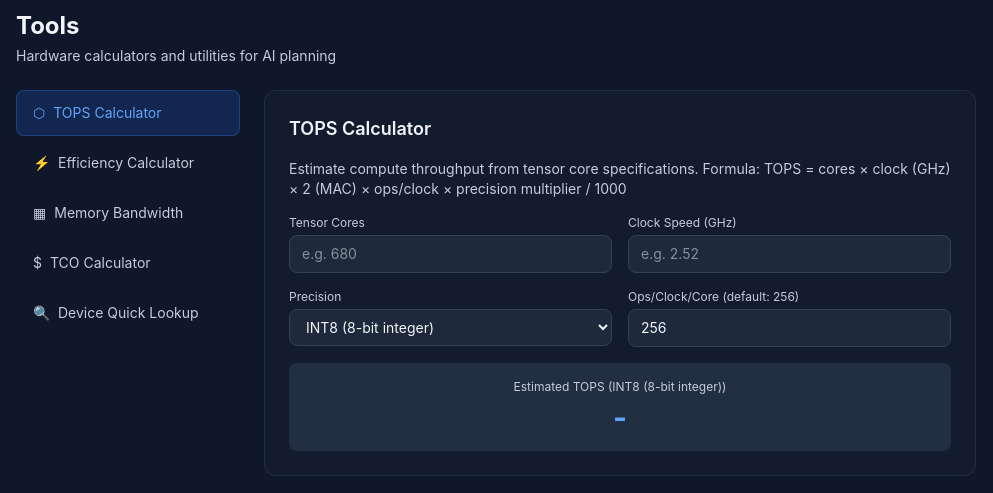
Test case: ToolsPage › switches to Memory Bandwidth on tab click
The image size is (993, 493).
Click the tab "▦Memory Bandwidth" at (128,213), box [16,190,240,236]
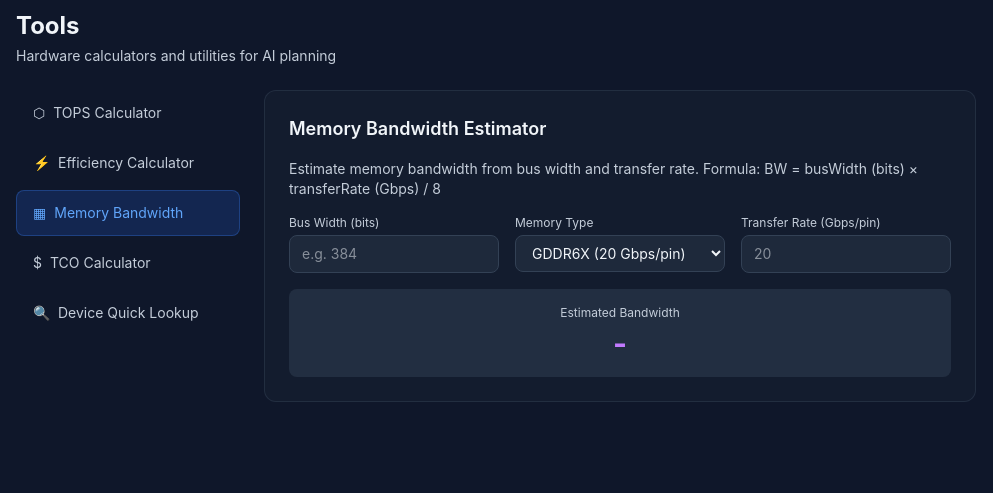
Now the number field labelled "Bus Width (bits)" is shown, box [289,235,499,273]
